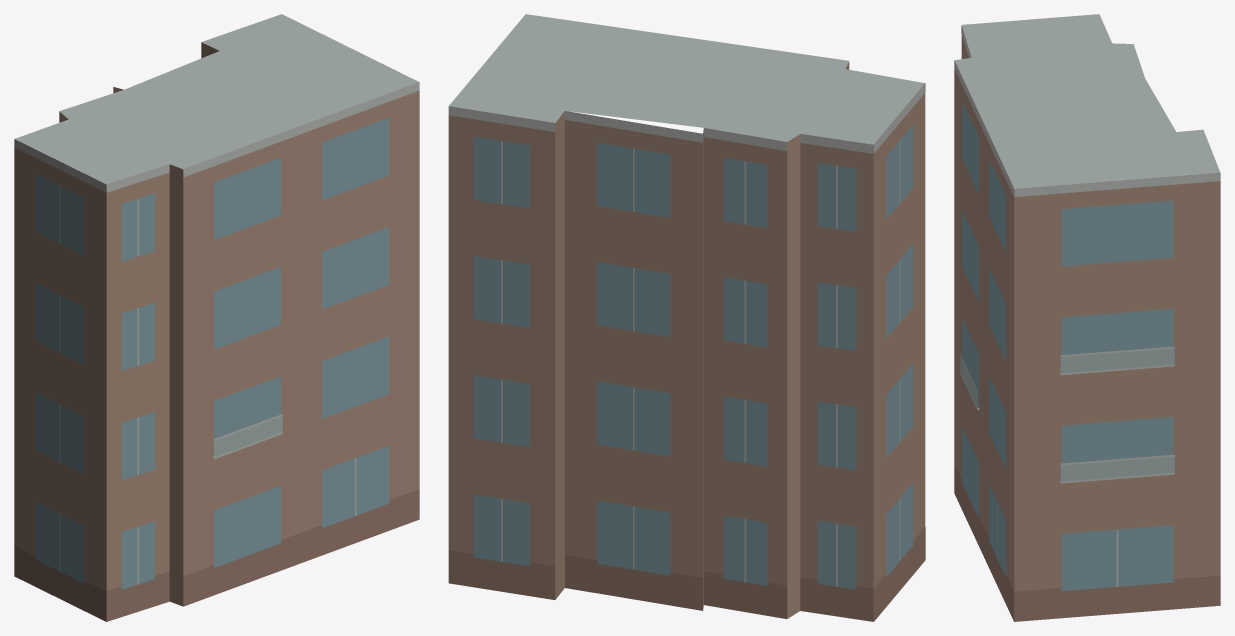
File: survey-upis-32504543.glb
The picture shows the model from 3 angles, left to right: view 1: azimuth 30°, elevation 25°; view 2: azimuth 150°, elevation 25°; view 3: azimuth 270°, elevation 25°; orthographic projection. The views are drawn at different scales.
Parts seen in each view (by area): view 1: survey-upis-32504543.tmp; view 2: survey-upis-32504543.tmp; view 3: survey-upis-32504543.tmp.
Boxes of the visible parts, bbox=[...] form: survey-upis-32504543.tmp: bbox=[14, 14, 419, 621]; survey-upis-32504543.tmp: bbox=[448, 14, 925, 621]; survey-upis-32504543.tmp: bbox=[954, 14, 1220, 621].
Bounding box in the file's own units: 11.1 × 12.8 × 7.14.
